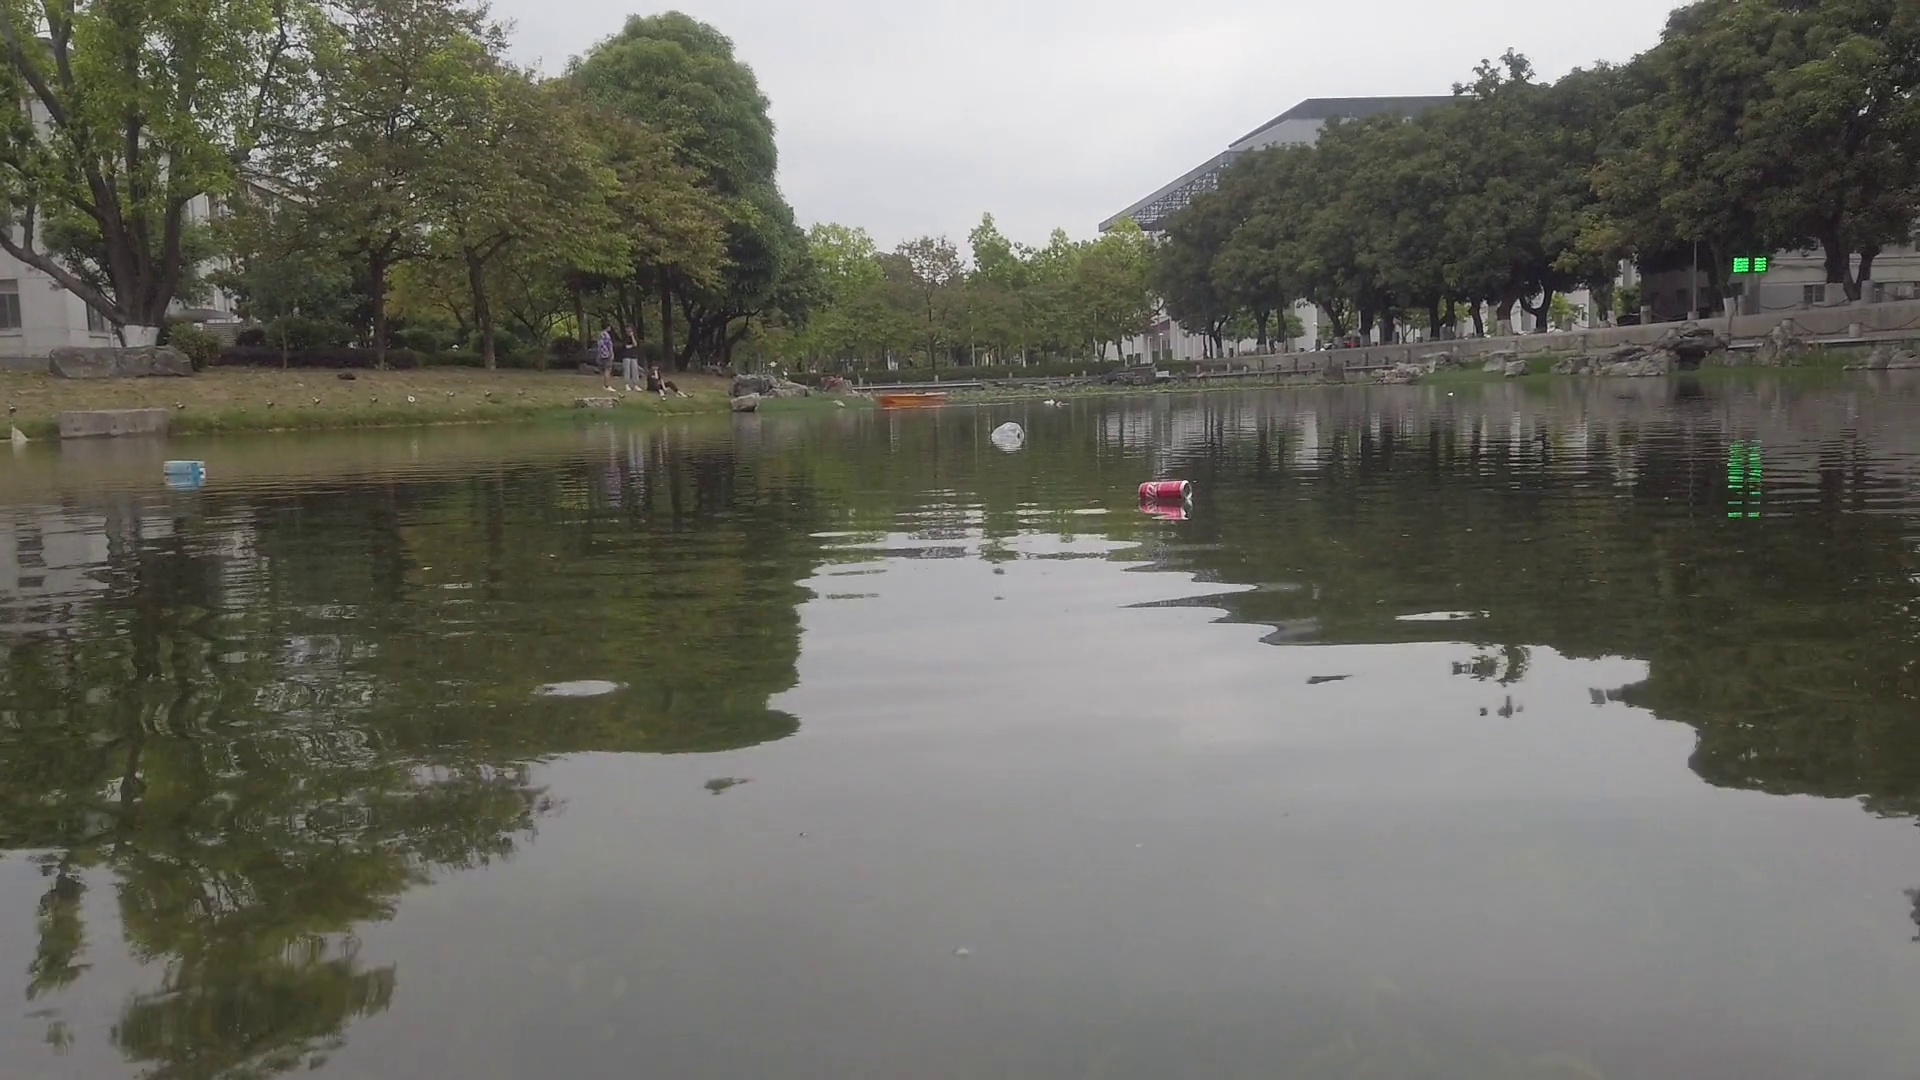bottle: (1135, 481, 1189, 505)
carton: (164, 459, 204, 473)
plastic: (992, 422, 1025, 443), (1443, 386, 1456, 400), (1040, 400, 1059, 405)
